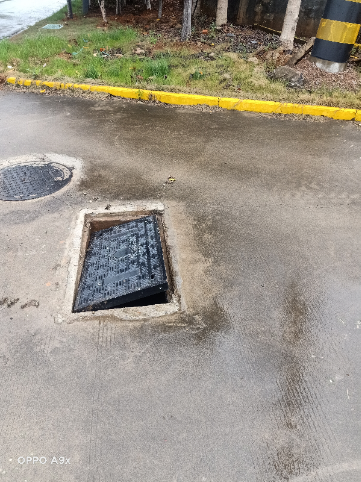well: (63, 206, 184, 317), (0, 159, 80, 203)
